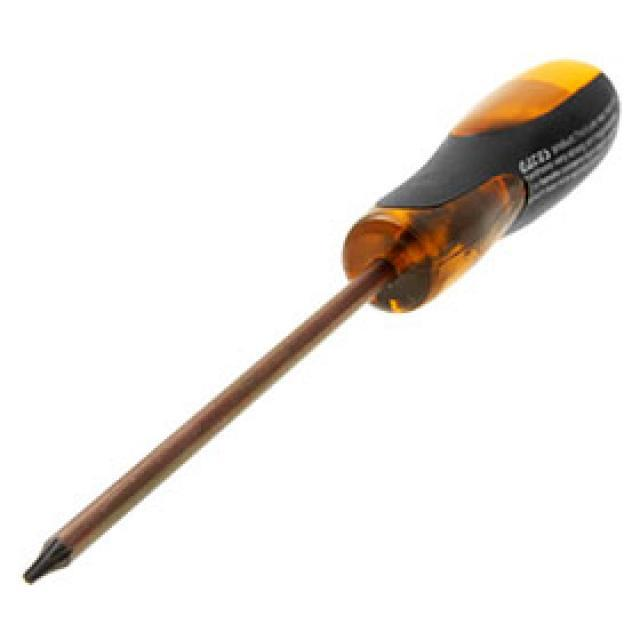screwdriver: (11, 41, 628, 592)
